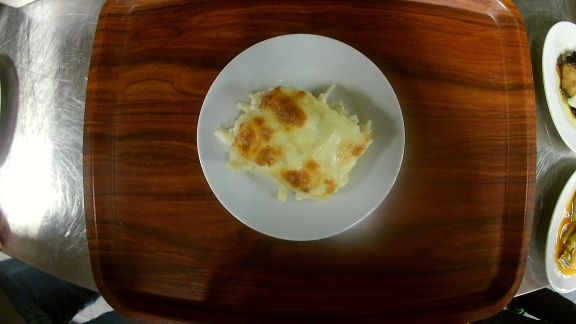firinmakarna: (196, 31, 408, 242)
